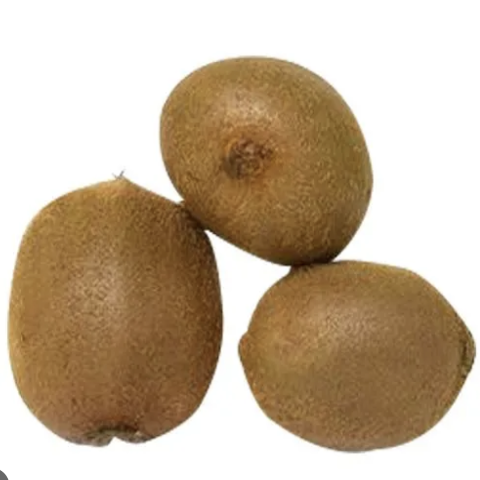kiwi: (0, 156, 233, 472), (143, 39, 396, 285), (225, 261, 475, 477)
